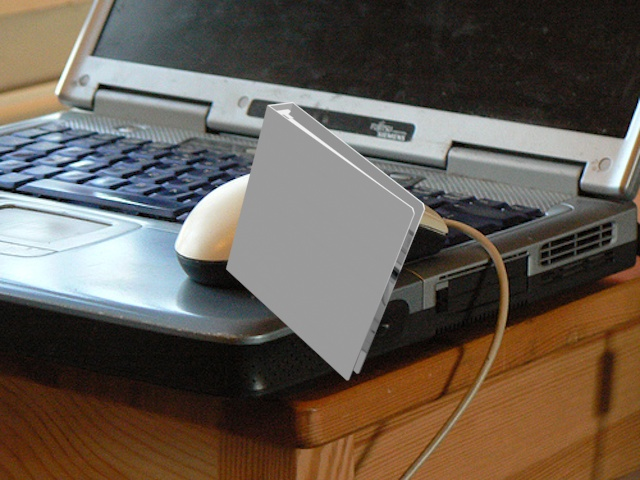ring_binder: (225, 97, 432, 384)
